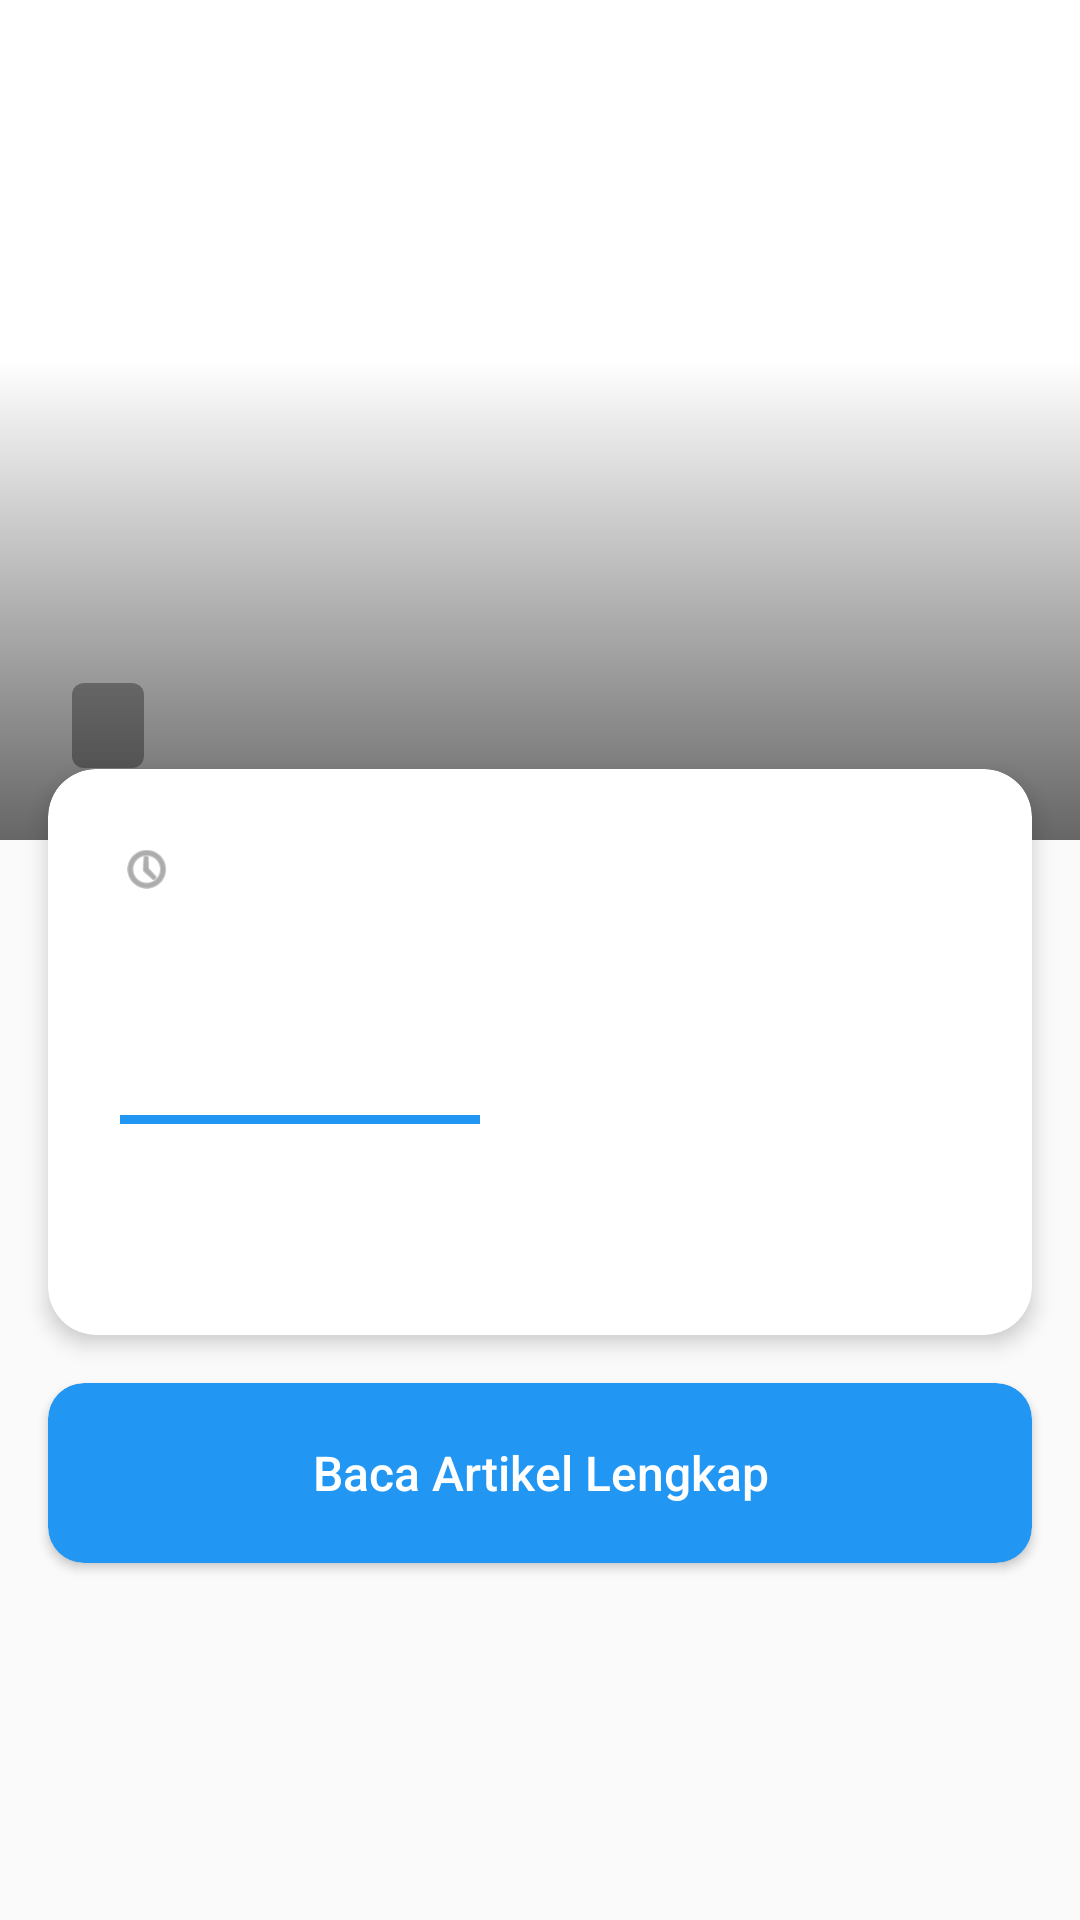

Icon bounding boxes for this 1080w x 1920h phone screenshot, format (x1, y1, x2, y2):
recent history: (127, 850, 166, 889)
